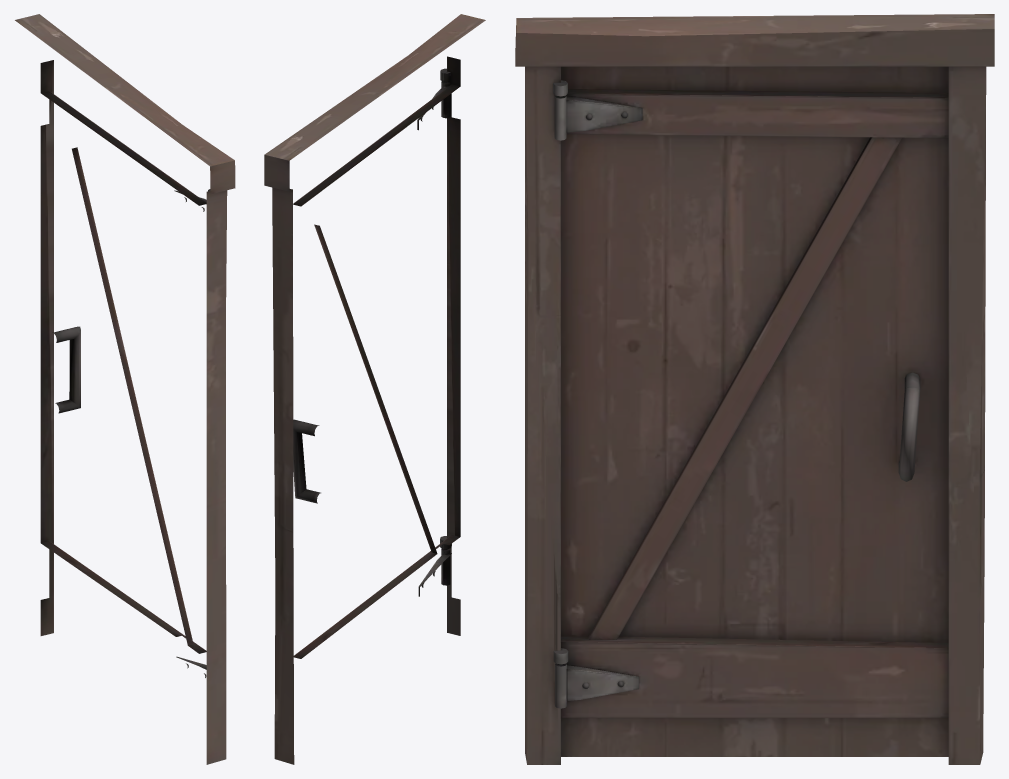
3 renders of one model, left to right at view 1: azimuth 30°, elevation 25°; view 2: azimuth 150°, elevation 25°; view 3: azimuth 270°, elevation 25°, orthographic. The views are drawn at different scales.
Parts seen in each view (by area): view 1: body0_model0_lod0_mesh0; view 2: body0_model0_lod0_mesh0; view 3: body0_model0_lod0_mesh0.
Boxes of the visible parts, bbox=[...] form: body0_model0_lod0_mesh0: bbox=[15, 14, 235, 764]; body0_model0_lod0_mesh0: bbox=[264, 14, 485, 764]; body0_model0_lod0_mesh0: bbox=[515, 14, 994, 764].
Bounding box in the file's own units: 6.66 × 120 × 70.3.
1 material, 1 textured.
